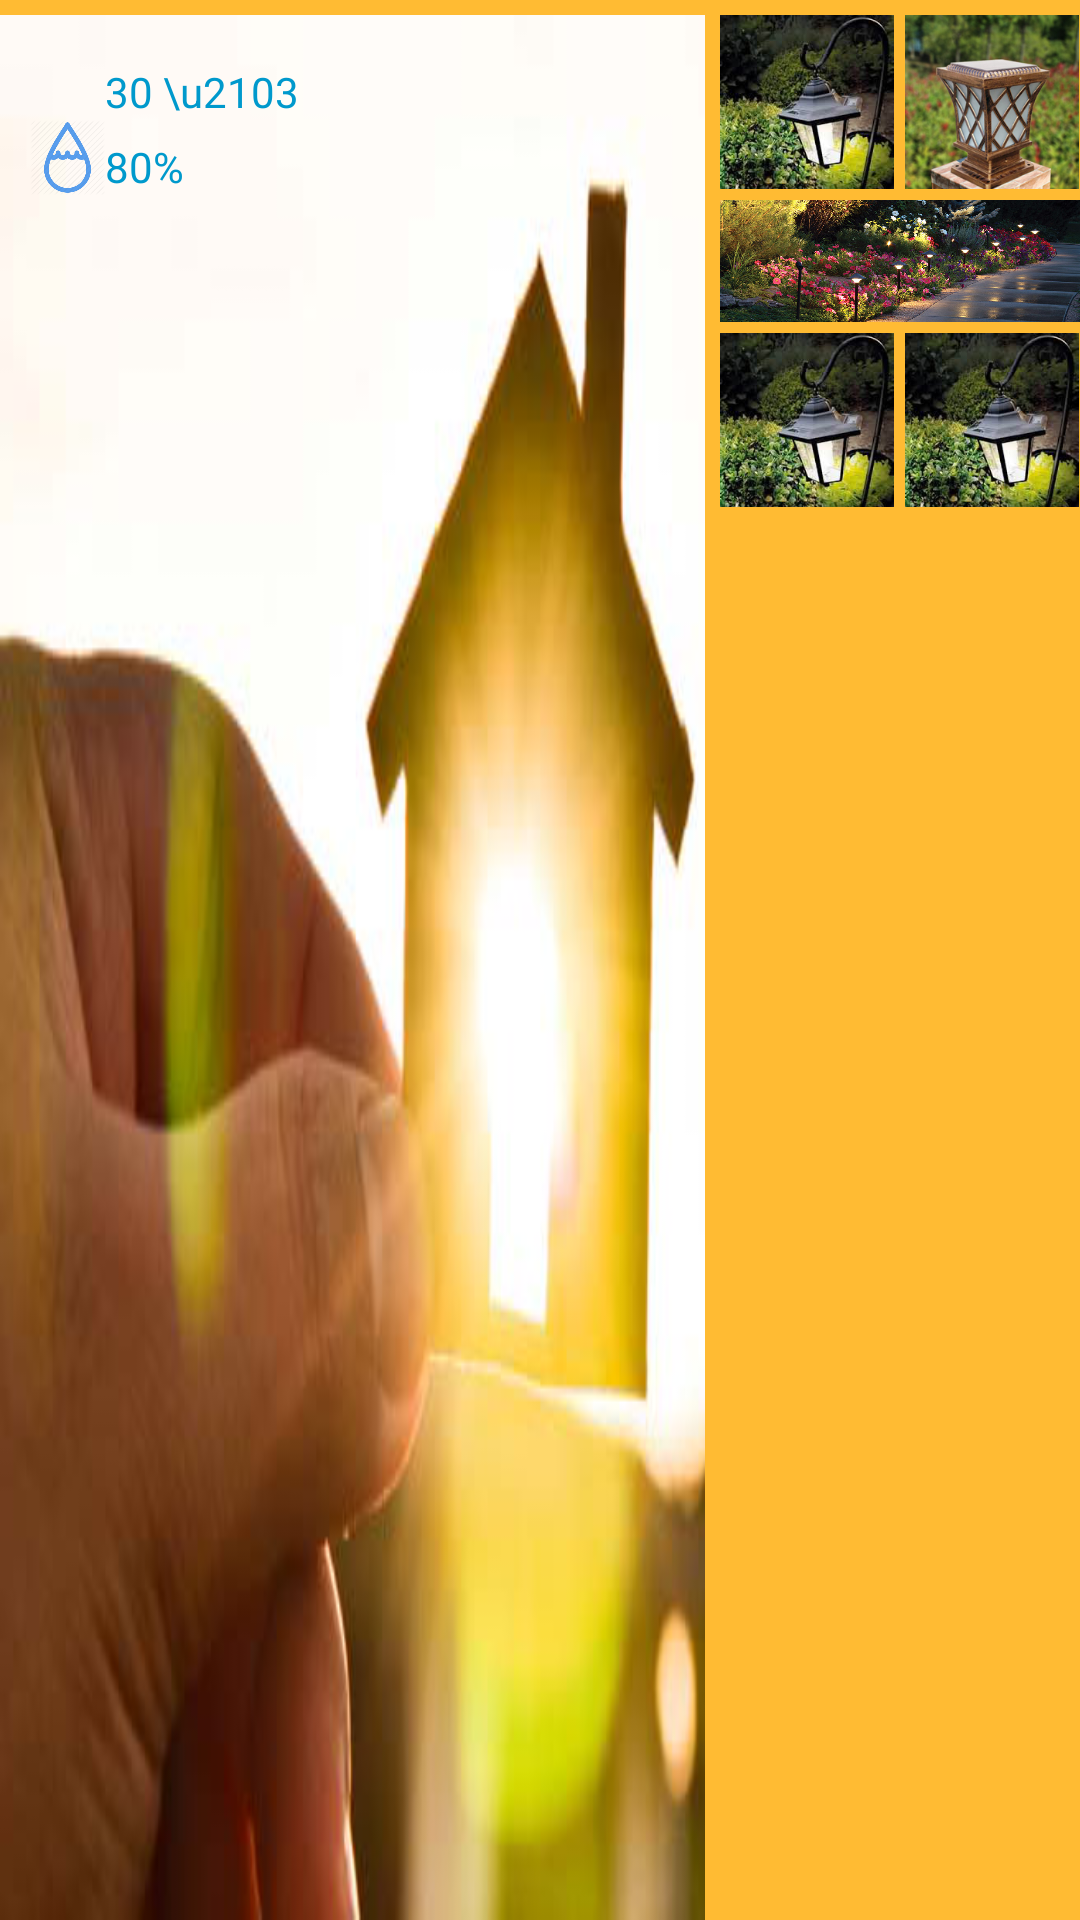

Named icons in this screenshot (1080x1920) and their centers, [x,y]:
humidity: [67,157]
